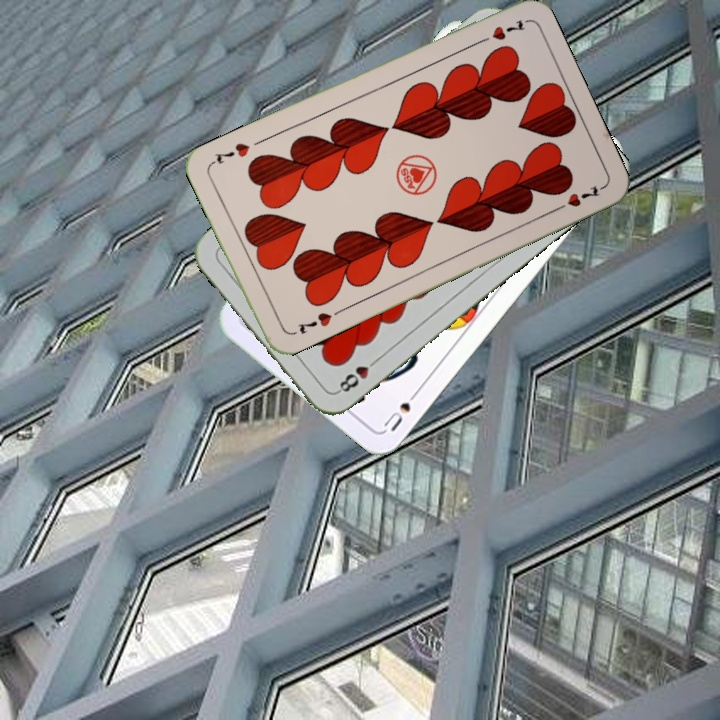H7: (472, 15, 529, 47), (293, 308, 335, 337)
H8: (333, 353, 382, 396)
SU: (379, 383, 424, 434)
